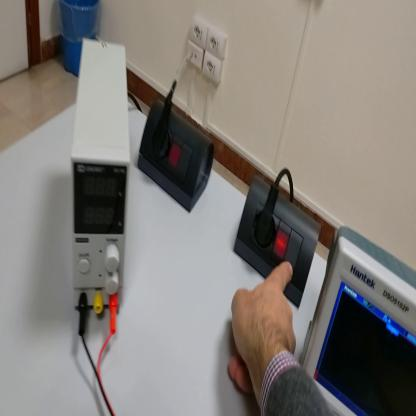hand: (224, 261, 299, 392)
oscilloscope: (298, 226, 416, 416)
power supply: (70, 34, 133, 311)
socket: (235, 162, 324, 312), (139, 96, 216, 216)
